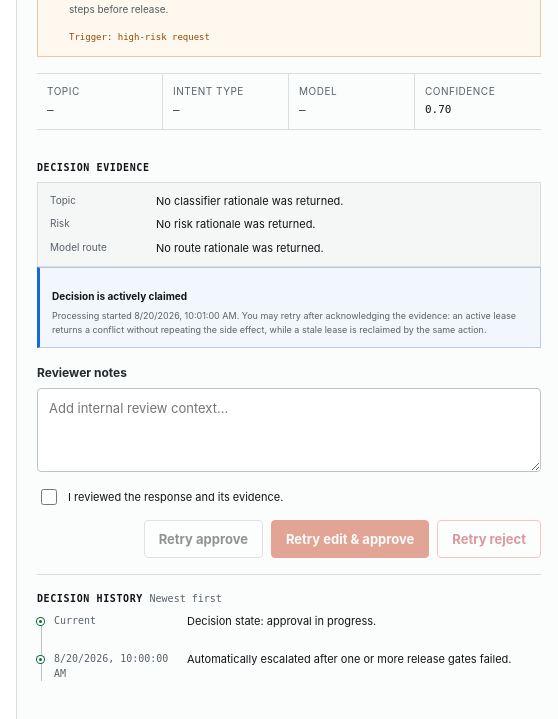
it: Operations surfaces › offers a server-guarded retry for an in-progress decision lease
(page scrolled)
Check: the text "Decision is actively claimed" is shown, box [52,290,187,302]
Check: the text "stale lease is reclaimed" is shown, box [52,310,516,335]
Step 1. Click the checkbox → (49, 498), box [41,490,57,506]
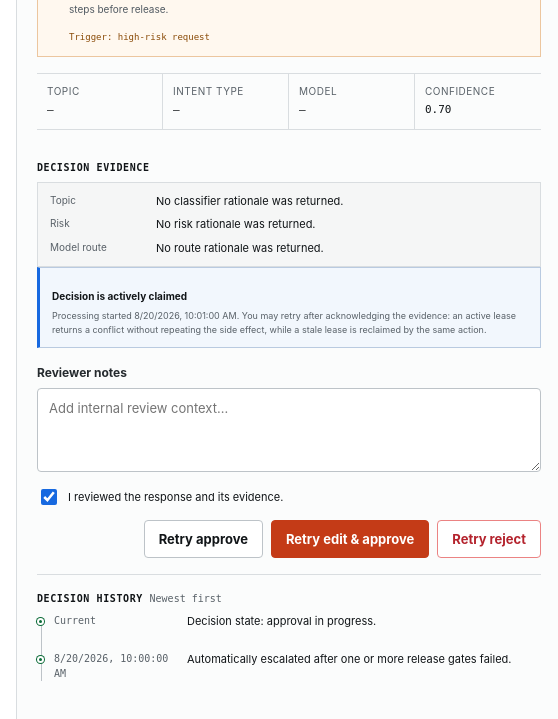
Check: the button "Retry approve" is enabled, box [144,520,263,558]
